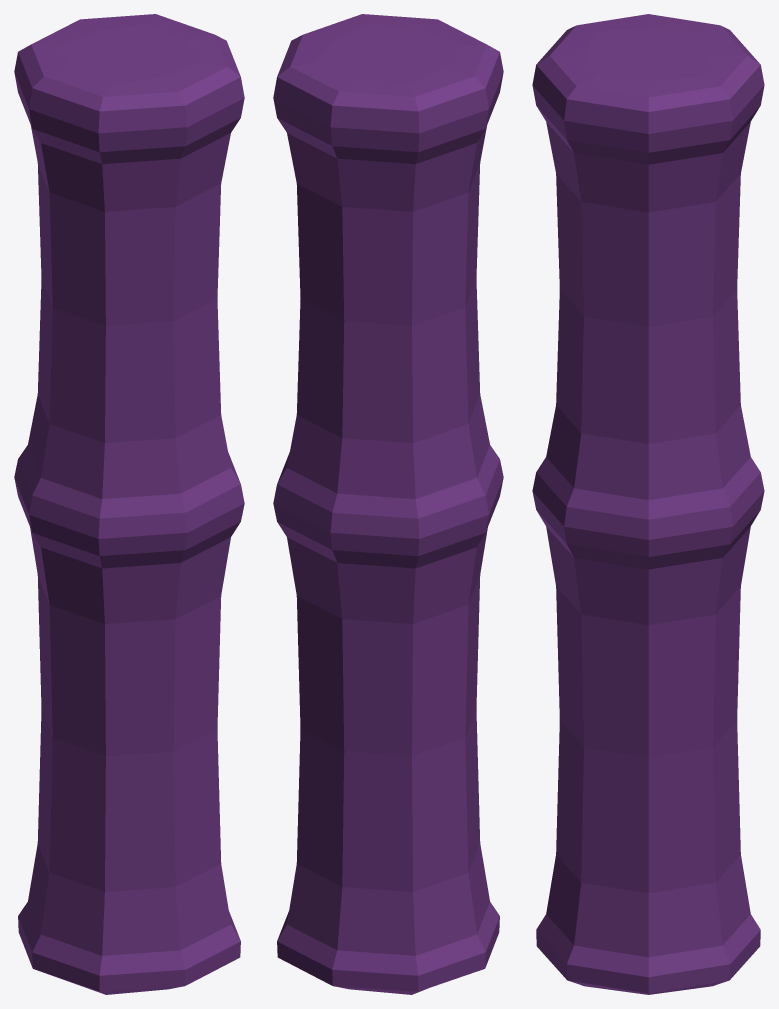
The model's file is Blockout_Post.fbx.
The picture shows the model from 3 angles, left to right: view 1: azimuth 30°, elevation 25°; view 2: azimuth 150°, elevation 25°; view 3: azimuth 270°, elevation 25°; orthographic projection.
Parts seen in each view (by area): view 1: Cube.023; view 2: Cube.023; view 3: Cube.023.
Part boxes in pixels (x1=…): Cube.023: x1=14, y1=14, x2=244, y2=994; Cube.023: x1=273, y1=14, x2=503, y2=994; Cube.023: x1=532, y1=14, x2=764, y2=994.
Bounding box in the file's own units: 104 × 452 × 104.
